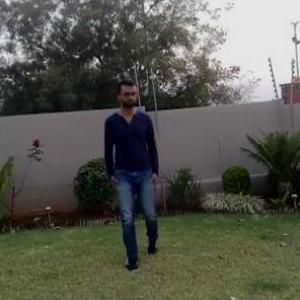follow: (103, 71, 164, 272)
